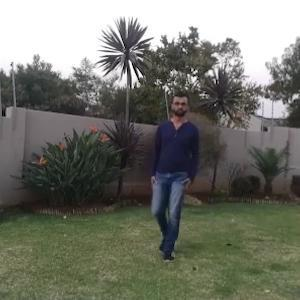follow: (149, 101, 192, 246)
